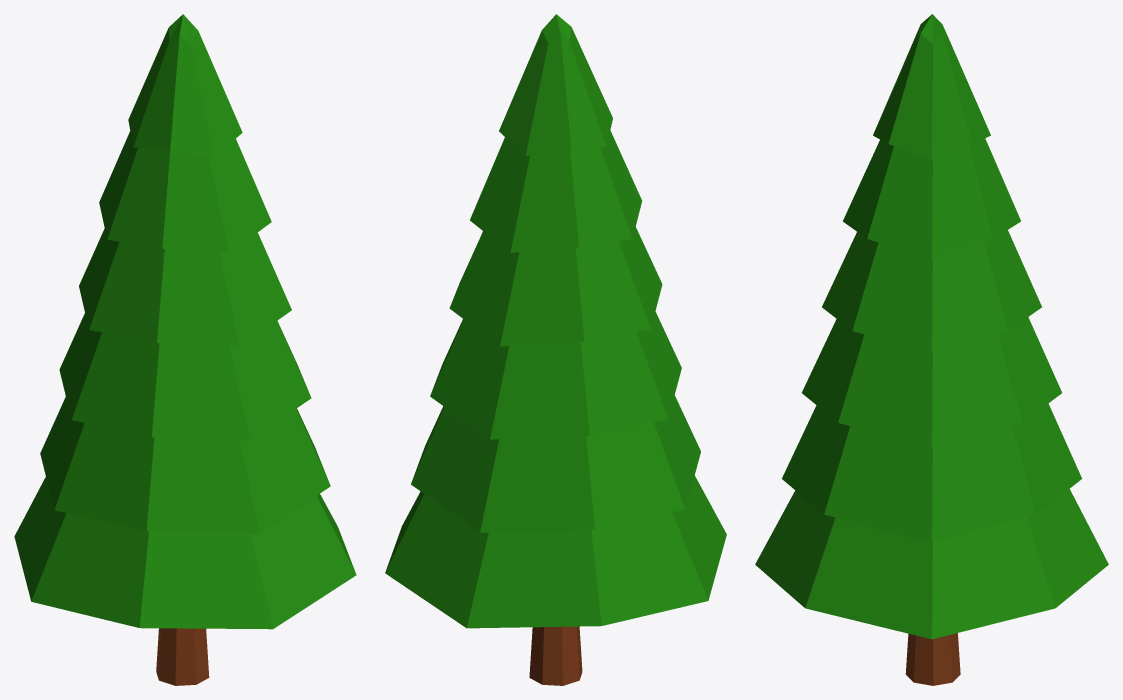
The model's file is PineTree.fbx.
3 views of the same model, side by side, from view 1: azimuth 30°, elevation 25°; view 2: azimuth 150°, elevation 25°; view 3: azimuth 270°, elevation 25° (orthographic).
Visible parts, largest first — view 1: Cylinder; view 2: Cylinder; view 3: Cylinder.
Part boxes in pixels (box(x1,y1,x2,y2)): Cylinder: box(14, 14, 356, 685); Cylinder: box(385, 14, 726, 685); Cylinder: box(755, 14, 1108, 685).
Size of the model in its own units: 351 by 723 by 351.
